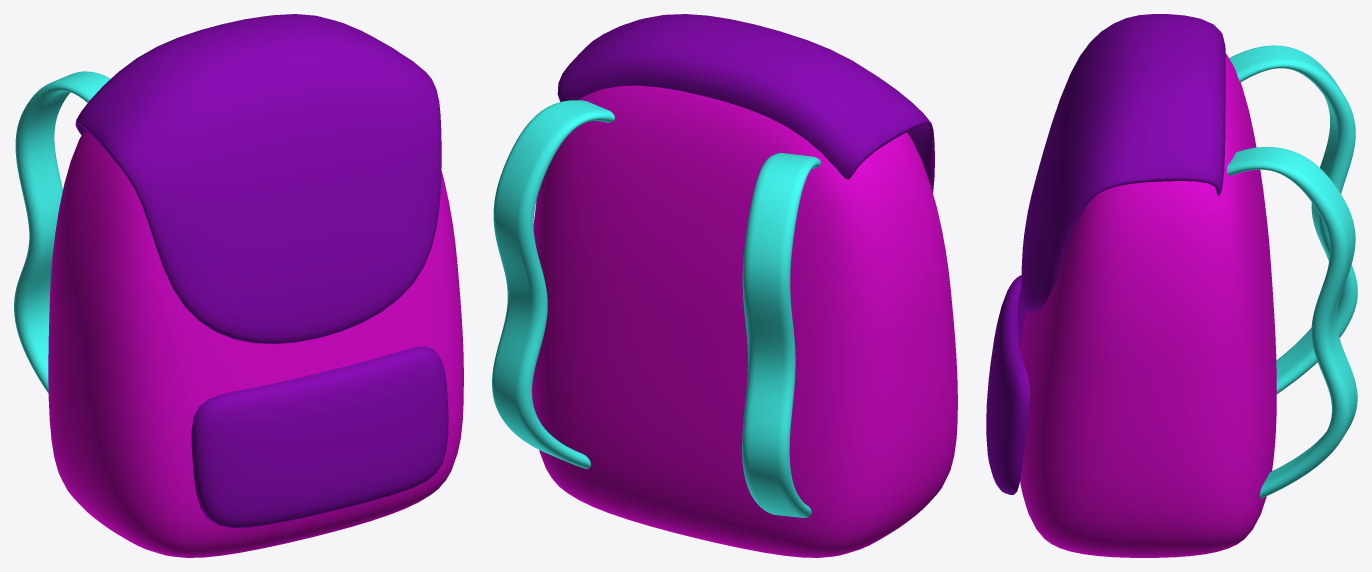
The model's file is tas-sekolah.fbx.
3 views of the same model, side by side, from view 1: azimuth 30°, elevation 25°; view 2: azimuth 150°, elevation 25°; view 3: azimuth 270°, elevation 25° (orthographic). The views are drawn at different scales.
Parts seen in each view (by area): view 1: top cover_0, main part of the backpack_6, back pocket_9, backpack straps_8; view 2: main part of the backpack_6, backpack straps_8, top cover_0; view 3: main part of the backpack_6, top cover_0, backpack straps_8, back pocket_9.
Part boxes in pixels (x1=…): top cover_0: x1=75, y1=14, x2=441, y2=344; main part of the backpack_6: x1=48, y1=130, x2=463, y2=557; back pocket_9: x1=191, y1=346, x2=448, y2=527; backpack straps_8: x1=14, y1=71, x2=110, y2=393; main part of the backpack_6: x1=532, y1=85, x2=957, y2=557; backpack straps_8: x1=492, y1=100, x2=820, y2=517; top cover_0: x1=557, y1=14, x2=934, y2=192; main part of the backpack_6: x1=1020, y1=53, x2=1276, y2=557; top cover_0: x1=1021, y1=14, x2=1225, y2=313; backpack straps_8: x1=1227, y1=45, x2=1357, y2=498; back pocket_9: x1=986, y1=275, x2=1029, y2=494.
Bounding box in the file's own units: 96.75 × 121 × 87.52.
